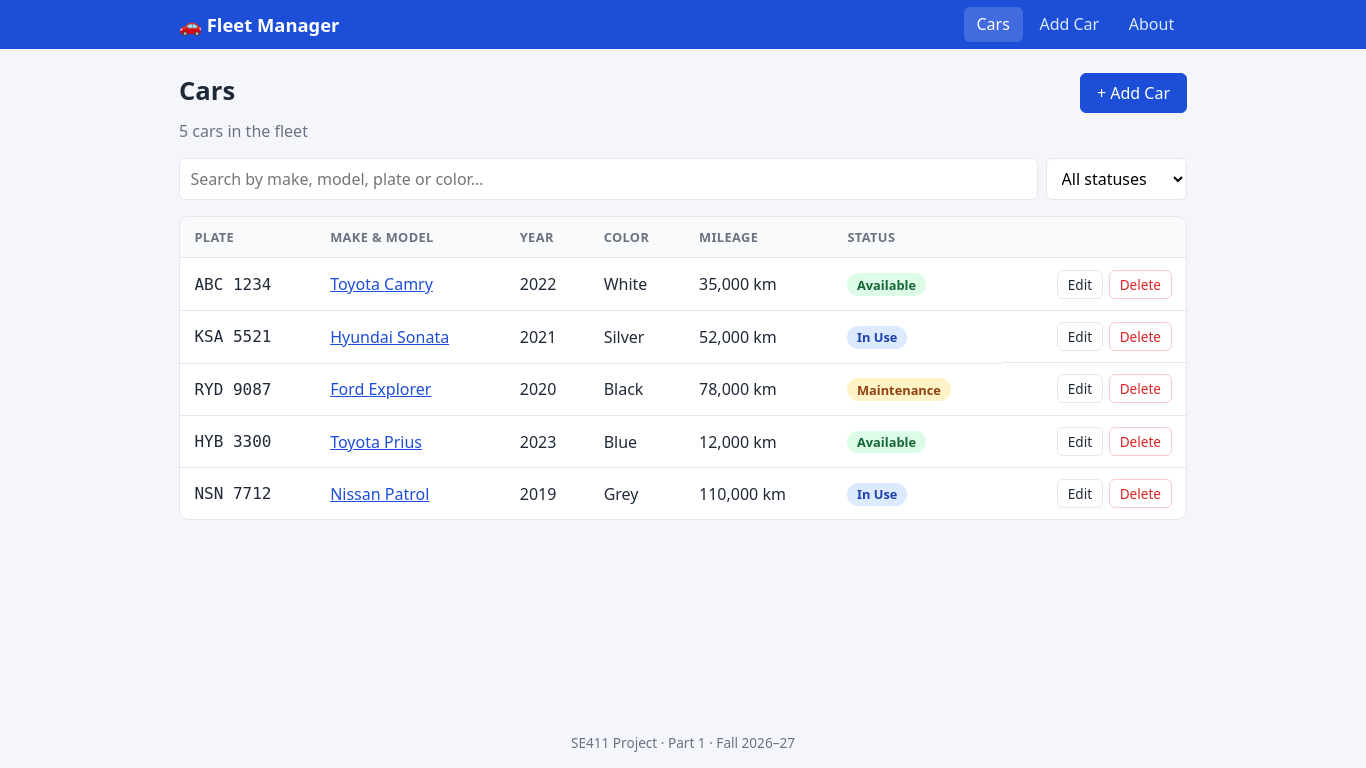
Test: Navigation menu › opens the About page with all team members
The image size is (1366, 768).
Click the link "About": click(1152, 24) [1129,14,1174,36]
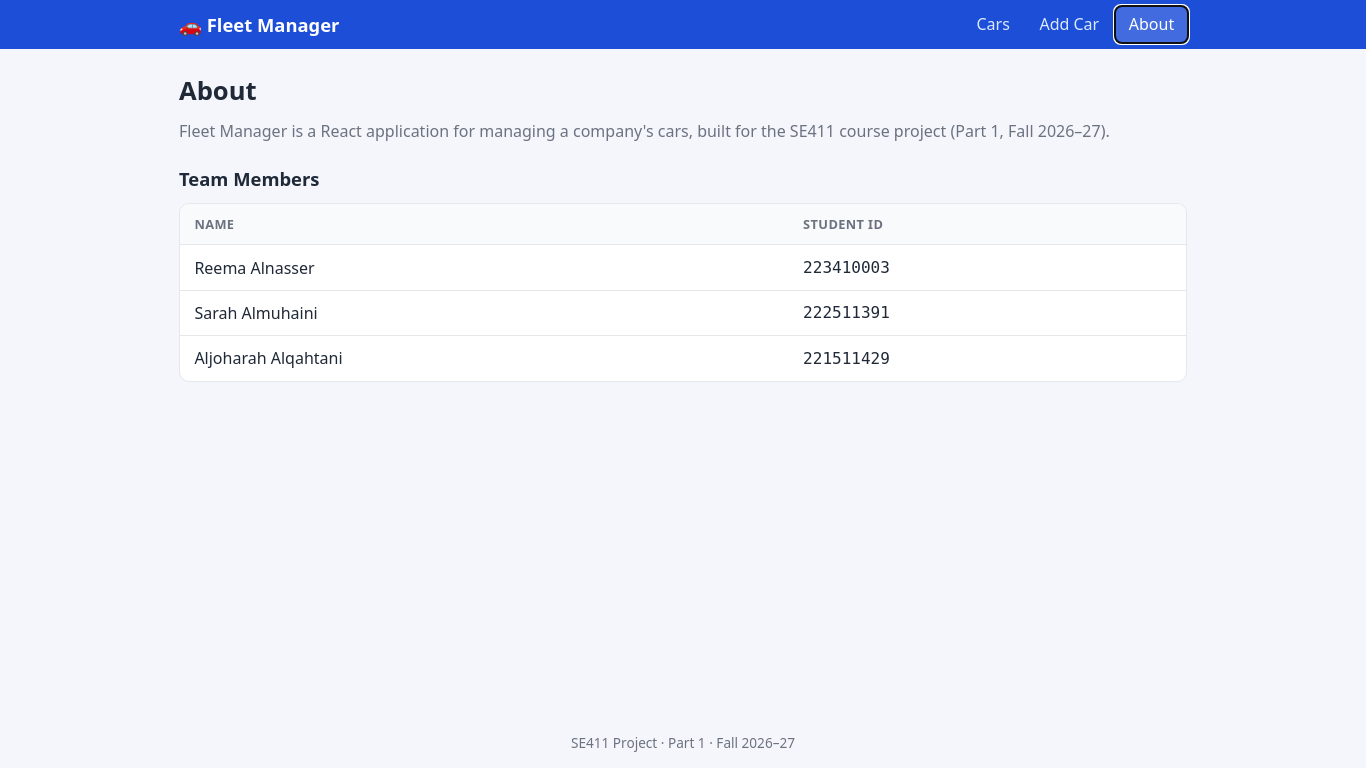
expect the heading "About" is shown: met, box [179,73,257,108]
expect the text "Reema Alnasser" is shown: met, box [180,245,789,290]
expect the text "223410003" is shown: met, box [789,245,1186,290]
